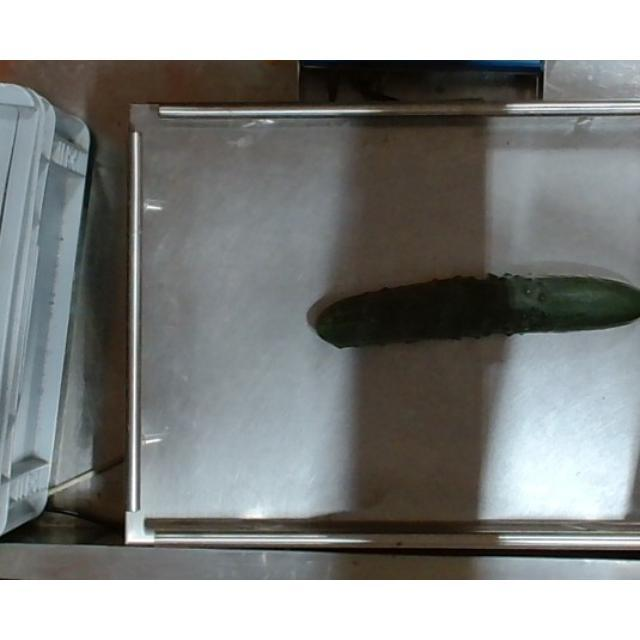cucumber: (308, 261, 640, 355)
